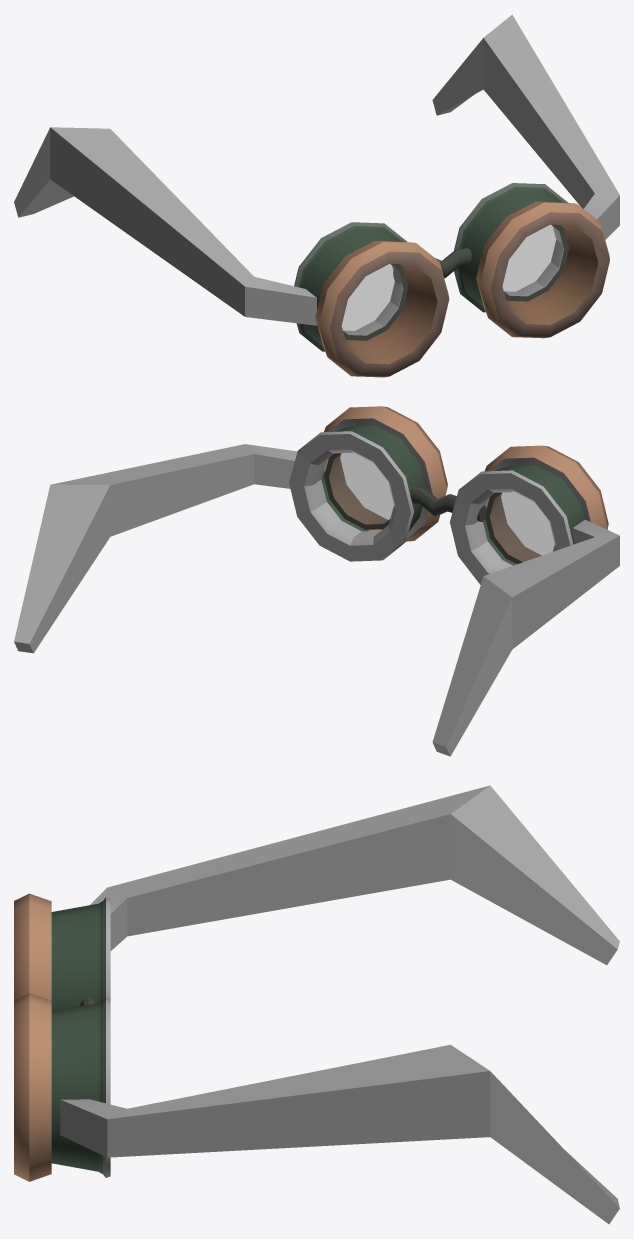
The model's file is Glasses.fbx.
The picture shows the model from 3 angles, top to bottom: view 1: azimuth 30°, elevation 25°; view 2: azimuth 150°, elevation 25°; view 3: azimuth 270°, elevation 25°; orthographic projection. The views are drawn at different scales.
Parts seen in each view (by area): view 1: cuerda2; view 2: cuerda2; view 3: cuerda2.
Boxes of the visible parts, left/top/right/bottom form: cuerda2: left=14, top=14, right=619, bottom=377; cuerda2: left=14, top=406, right=619, bottom=756; cuerda2: left=14, top=785, right=619, bottom=1224.
Size of the model in its own units: 0.2897 by 0.0923 by 0.2598.
